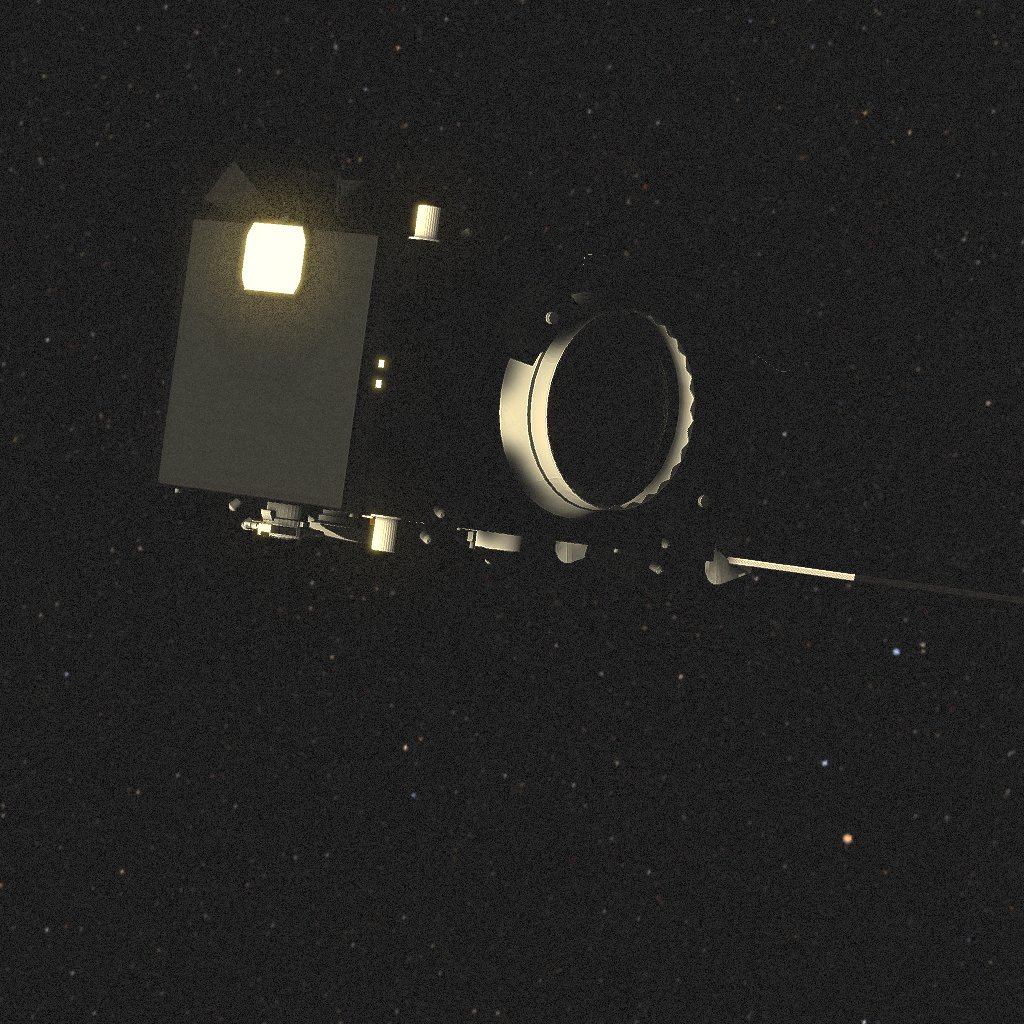proba_3_csc: (144, 161, 1024, 604)
